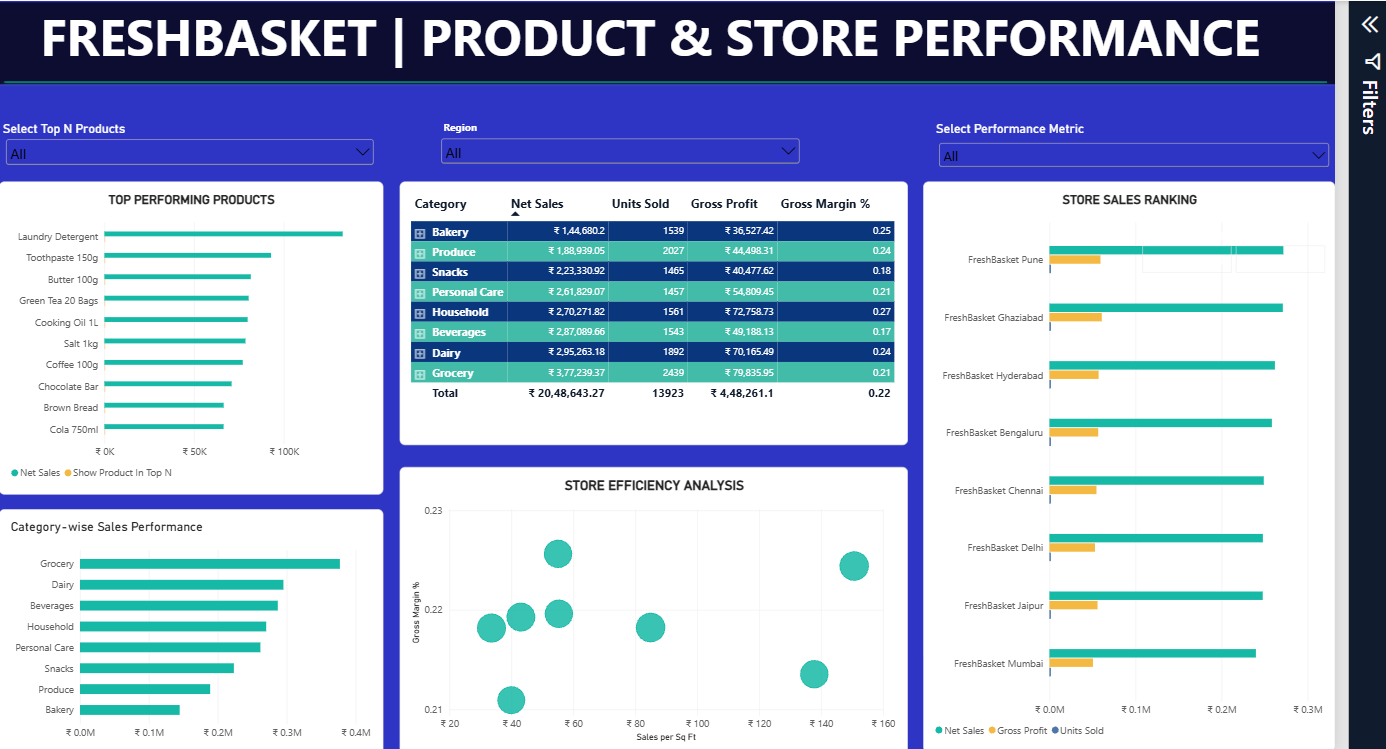

This screenshot's page, from the dashboard's own definition file:
{"tool":"powerbi","page":{"name":"Product and Store Performance","canvas":[1920,1080],"ordinal":1},"visuals":[{"type":"clusteredBarChart","title":"TOP PERFORMING PRODUCTS","fields":{"Category":["Products.ProductName"],"Y":["_Measures.Net Sales","_Measures.Show Product In Top N"]},"box":[0,260,552,450],"z":6000},{"type":"clusteredBarChart","title":"Category-wise Sales Performance","fields":{"Category":["Products.Category"],"Y":["_Measures.Net Sales"]},"box":[0,730,552,352],"z":7000},{"type":"slicer","title":"Select Top N Products","fields":{"Values":["Top N Selector.Value"]},"box":[6,172,538,68],"z":9000},{"type":"textbox","box":[0,2,1920,118],"z":11000},{"type":"shape","box":[0,108,1916,12],"z":12000},{"type":"pivotTable","fields":{"Rows":["Products.Category","Products.ProductName"],"Values":["_Measures.Net Sales","_Measures.Units Sold","_Measures.Gross Profit","_Measures.Gross Margin %"]},"box":[575.7,259.4,730.2,378.9],"z":13000},{"type":"clusteredBarChart","title":"STORE SALES RANKING","fields":{"Category":["Stores.StoreName"],"Y":["_Measures.Net Sales","_Measures.Gross Profit","_Measures.Units Sold"]},"box":[1328,260,592,820],"z":14000},{"type":"scatterChart","title":"STORE EFFICIENCY ANALYSIS","fields":{"Category":["Stores.StoreName"],"Size":["_Measures.Net Sales"],"X":["_Measures.Sales per Sq Ft"],"Y":["_Measures.Gross Margin %"]},"box":[575.7,669.5,730.2,412],"z":15000},{"type":"slicer","title":"Select Performance Metric","fields":{"Values":["Performance Metric.Performance Metric"]},"box":[1346,172,570,68],"z":16000},{"type":"slicer","title":"Date","fields":{"Values":["Date.Date"]},"box":[1636,326,276,74],"z":16001},{"type":"slicer","fields":{"Values":["Stores.Region"]},"box":[630.9,171.1,524.2,68.1],"z":16002}]}

Visuals, with their boxes on the page's 1920x1080 design canvas (x1, y1, x2, y2). These are canvas units, not pixel positions in the 1386x749 screenshot, which may show the page scaled, cropped or inside an application window:
"TOP PERFORMING PRODUCTS" clusteredBarChart: [x1=0, y1=260, x2=552, y2=710]
"Category-wise Sales Performance" clusteredBarChart: [x1=0, y1=730, x2=552, y2=1082]
"Select Top N Products" slicer: [x1=6, y1=172, x2=544, y2=240]
textbox: [x1=0, y1=2, x2=1920, y2=120]
shape: [x1=0, y1=108, x2=1916, y2=120]
pivotTable - Products.Category x Products.ProductName: [x1=576, y1=259, x2=1306, y2=638]
"STORE SALES RANKING" clusteredBarChart: [x1=1328, y1=260, x2=1920, y2=1080]
"STORE EFFICIENCY ANALYSIS" scatterChart: [x1=576, y1=670, x2=1306, y2=1082]
"Select Performance Metric" slicer: [x1=1346, y1=172, x2=1916, y2=240]
"Date" slicer: [x1=1636, y1=326, x2=1912, y2=400]
slicer - Stores.Region: [x1=631, y1=171, x2=1155, y2=239]
